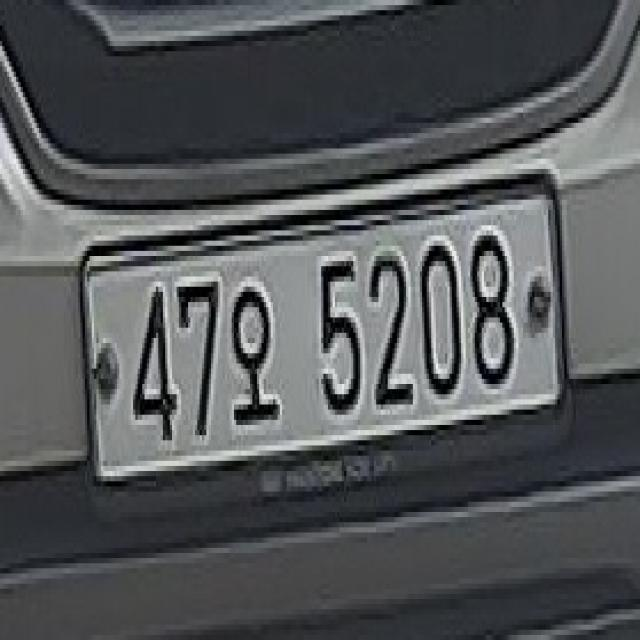0: (418, 239, 466, 406)
2: (363, 252, 419, 418)
4: (128, 278, 180, 466)
5: (315, 252, 366, 434)
7: (174, 272, 222, 448)
8: (466, 232, 520, 404)
license_plate: (69, 151, 584, 529)
o: (226, 276, 287, 437)
